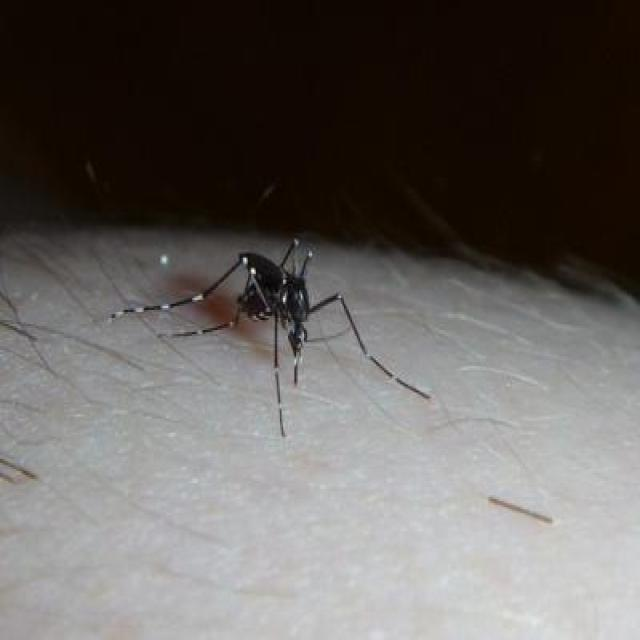body: (240, 258, 308, 354)
insect: (109, 238, 431, 441)
legs: (314, 288, 434, 399), (113, 254, 246, 344), (263, 309, 289, 439)
mouthpart: (286, 337, 308, 392)
wings: (240, 246, 288, 288)
